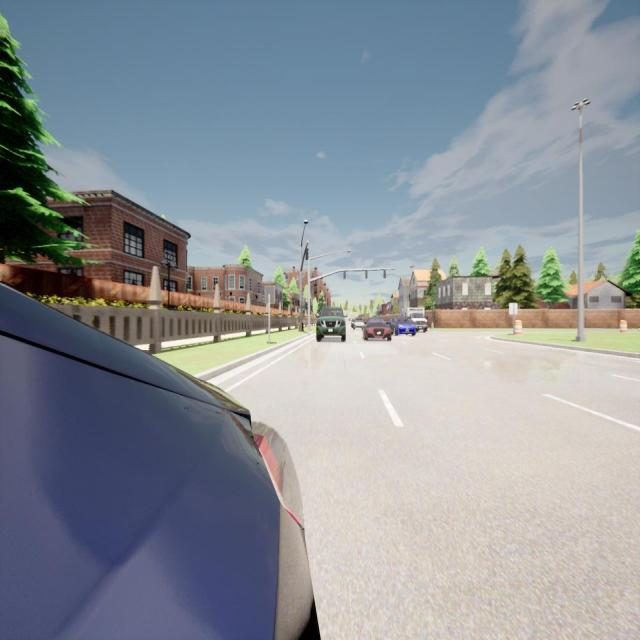Traffic_Signs: (264, 286, 276, 304), (509, 302, 517, 316)
Vehicle: (0, 284, 319, 637), (316, 304, 349, 345), (363, 318, 392, 342), (401, 307, 428, 332), (390, 316, 416, 337), (352, 311, 370, 330)
traffic_light: (383, 269, 386, 278), (306, 247, 308, 260), (344, 271, 346, 279), (366, 270, 368, 278)
